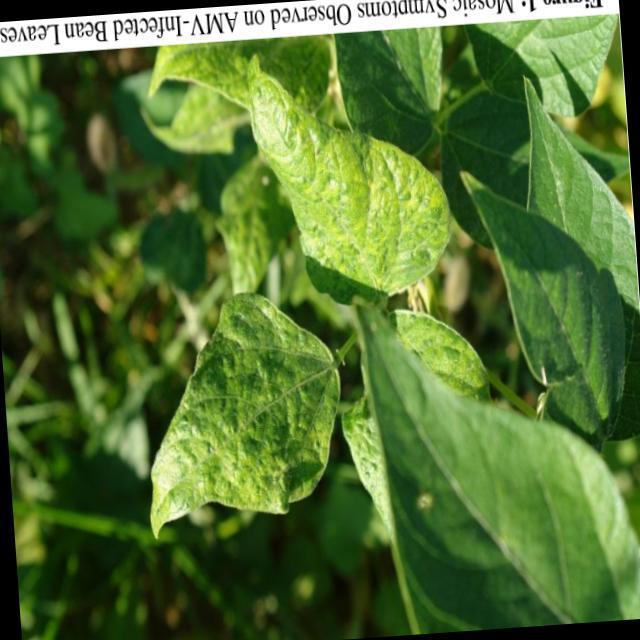Mosaic Virus: (236, 54, 462, 316), (130, 287, 343, 546)
